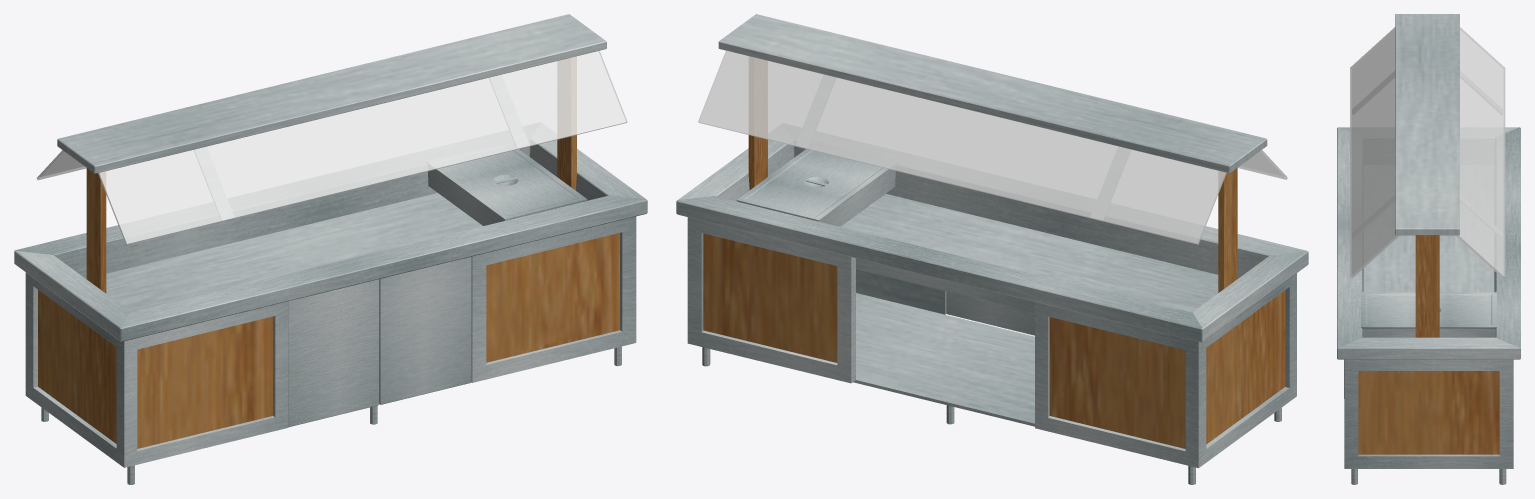
Rendered from Buffet.gltf.
The picture shows the model from 3 angles, left to right: view 1: azimuth 30°, elevation 25°; view 2: azimuth 150°, elevation 25°; view 3: azimuth 270°, elevation 25°; orthographic projection. The views are drawn at different scales.
Visible parts, largest first — view 1: Buffet_base, Buffet_doorR, Buffet_doorL, Buffet_Container_lid, Buffet_Container; view 2: Buffet_base, Buffet_Container_lid, Buffet_doorR, Buffet_Container; view 3: Buffet_base, Buffet_Container_lid, Buffet_Container.
Part boxes in pixels (left/top/right/bottom): Buffet_base: left=14, top=14, right=647, bottom=484; Buffet_doorR: left=379, top=256, right=471, bottom=404; Buffet_doorL: left=288, top=279, right=379, bottom=427; Buffet_Container_lid: left=426, top=142, right=587, bottom=220; Buffet_Container: left=428, top=165, right=585, bottom=225; Buffet_base: left=676, top=14, right=1308, bottom=484; Buffet_Container_lid: left=736, top=143, right=896, bottom=221; Buffet_doorR: left=946, top=291, right=1034, bottom=335; Buffet_Container: left=738, top=166, right=895, bottom=226; Buffet_base: left=1337, top=14, right=1520, bottom=484; Buffet_Container_lid: left=1361, top=292, right=1496, bottom=327; Buffet_Container: left=1362, top=328, right=1495, bottom=337.
Size of the model in its own units: 3.66 by 2.01 by 1.29.
3 materials, 2 textured.
